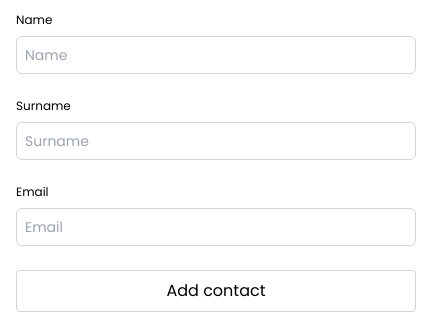
it: Form › should display validation error when fields empty is not provided
Click the button "Add contact".
click(216, 291)  # box [16, 270, 416, 312]
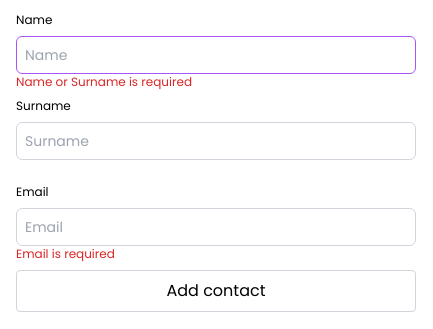
Result: the text "Name or Surname is required" is shown at [16, 73, 192, 90]
Result: the text "Email is required" is shown at [16, 245, 115, 262]
